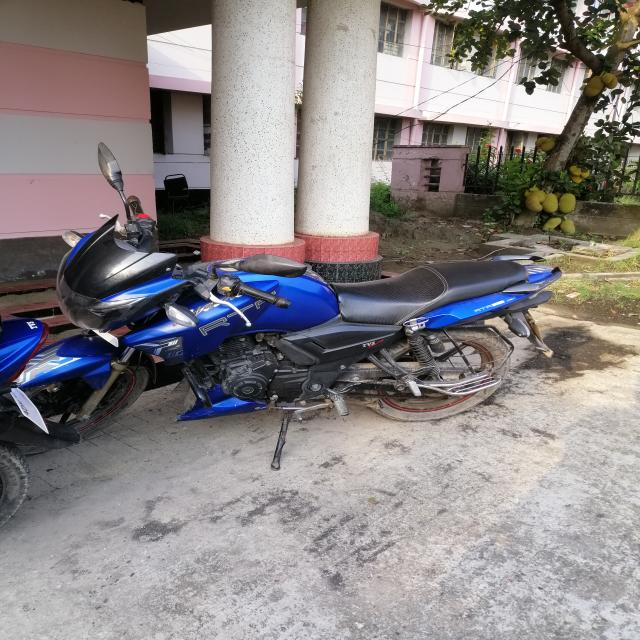Motorbike: (31, 141, 568, 457)
